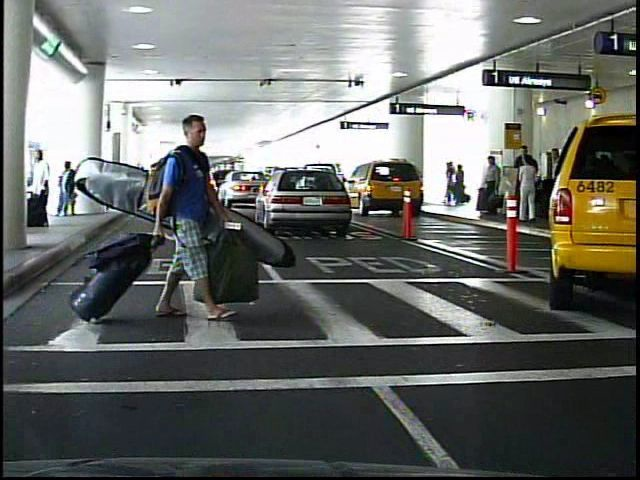person: (153, 105, 235, 344), (25, 150, 53, 232), (54, 155, 85, 223), (514, 143, 534, 218), (481, 157, 503, 220), (518, 155, 537, 224), (442, 161, 454, 208), (454, 162, 465, 206)
